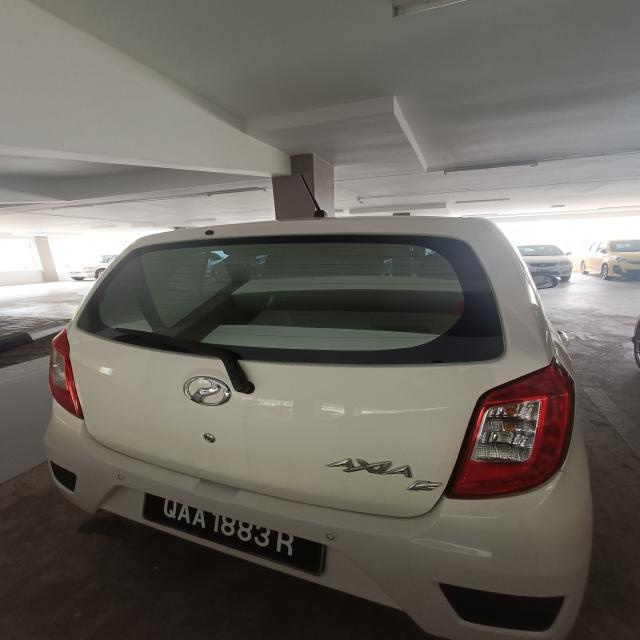PeroduaAxia: (42, 214, 595, 638)
